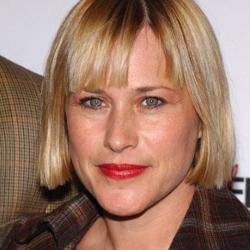face: (33, 1, 236, 228)
